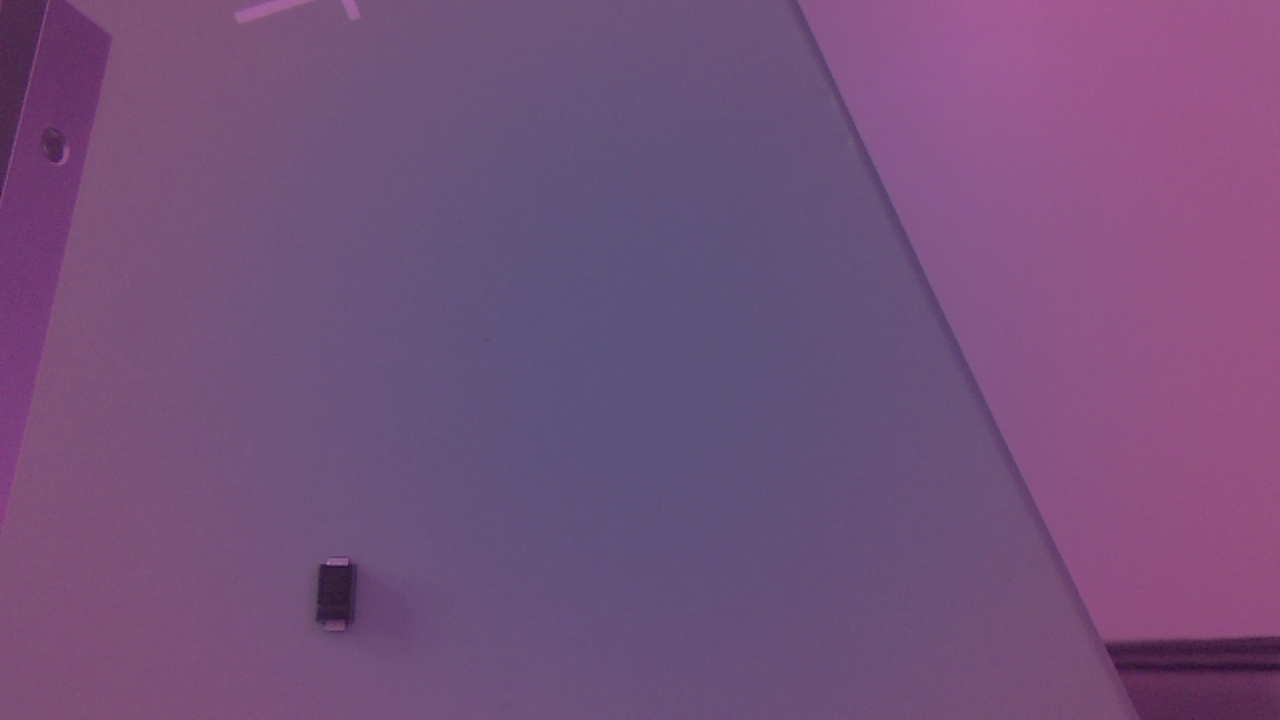Diode: (313, 555, 372, 642)
